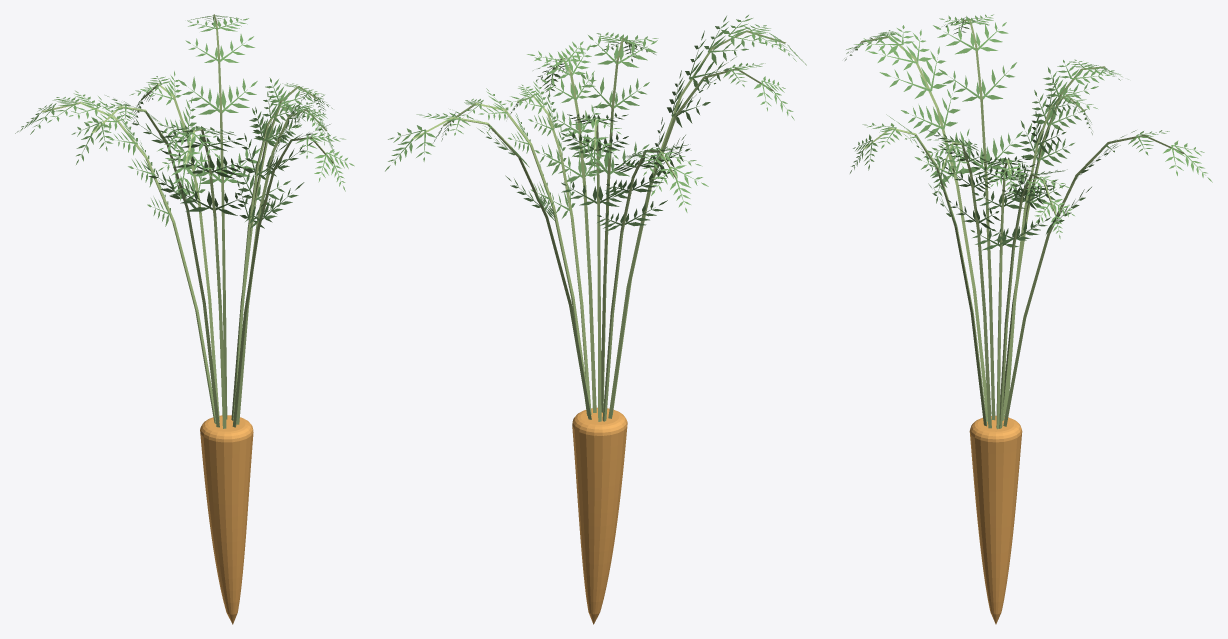
Rendered from carrot_harvest_v01.glb.
3 renders of one model, left to right at view 1: azimuth 30°, elevation 25°; view 2: azimuth 150°, elevation 25°; view 3: azimuth 270°, elevation 25°, orthographic. The views are drawn at different scales.
Visible parts, largest first — view 1: leaves, petioles, root; view 2: leaves, petioles, root; view 3: leaves, petioles, root.
Part boxes in pixels (x1,y1,x2,y2): leaves: (15, 15, 354, 228); petioles: (41, 14, 333, 428); root: (200, 415, 253, 624); leaves: (385, 15, 806, 231); petioles: (412, 30, 785, 421); root: (572, 407, 627, 624); leaves: (844, 14, 1212, 250); petioles: (861, 19, 1184, 429); root: (969, 415, 1022, 624).
Size of the model in its own units: 0.2433 by 0.4324 by 0.2691.
